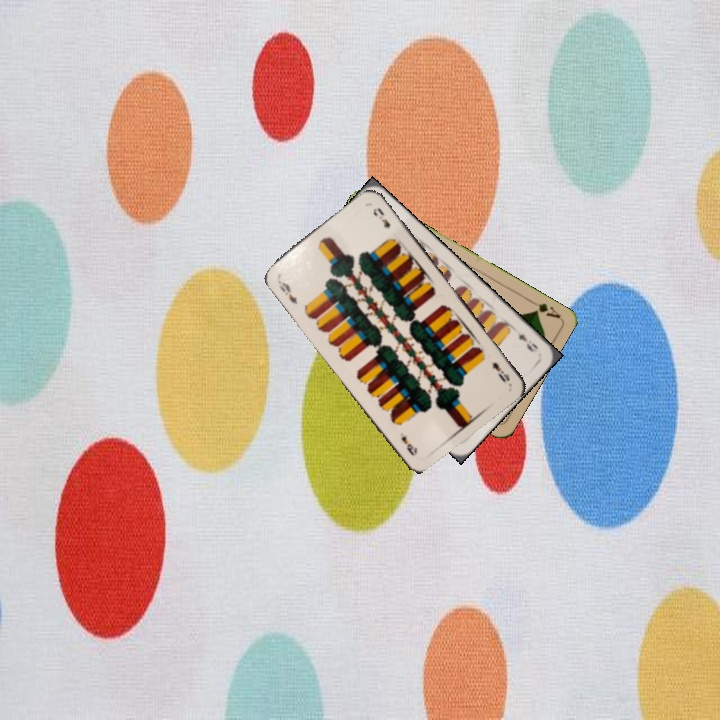E9: (274, 276, 300, 307), (513, 327, 541, 355), (488, 358, 513, 385)
GA: (525, 296, 563, 321)
